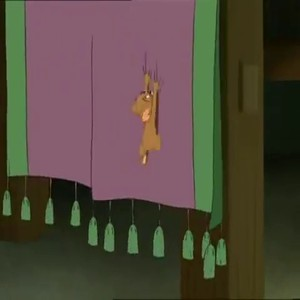Jerry: (127, 71, 163, 166)
